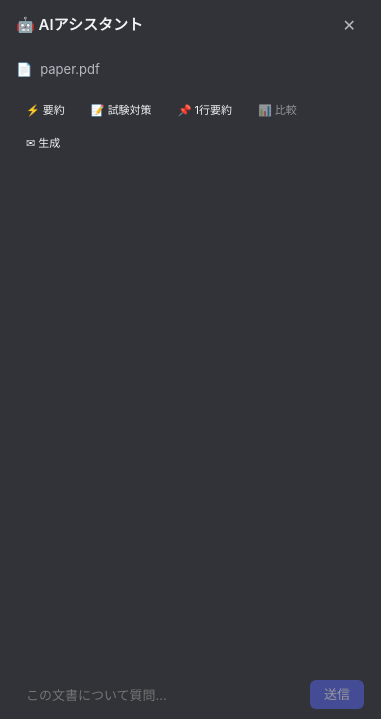
it: DocAIPanel › submits a question and streams chunks into the panel
Type "なぜ?" into the field with placeholder "この文書について質問...".
click(160, 695); type("なぜ?")  # box [16, 680, 304, 709]
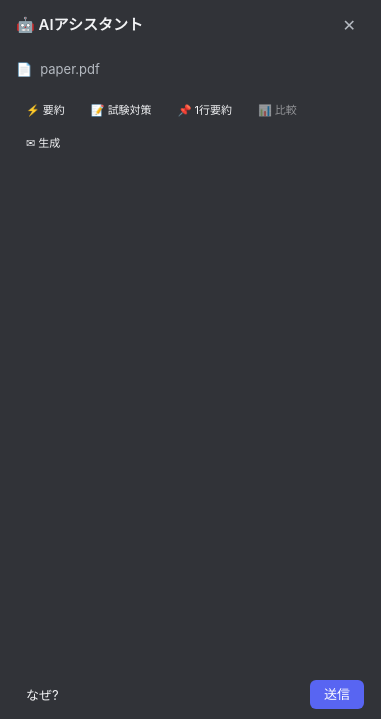
Click the button "送信".
click(337, 695)  # box [310, 680, 364, 709]
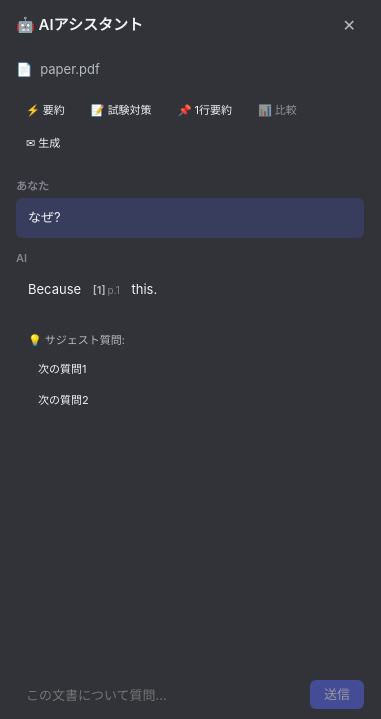
Expected: the text "Because" is shown, [28, 281, 85, 297]
Expected: the text "[1]" is shown, [93, 282, 106, 299]
Expected: the button "次の質問1" is shown, [28, 356, 352, 383]
